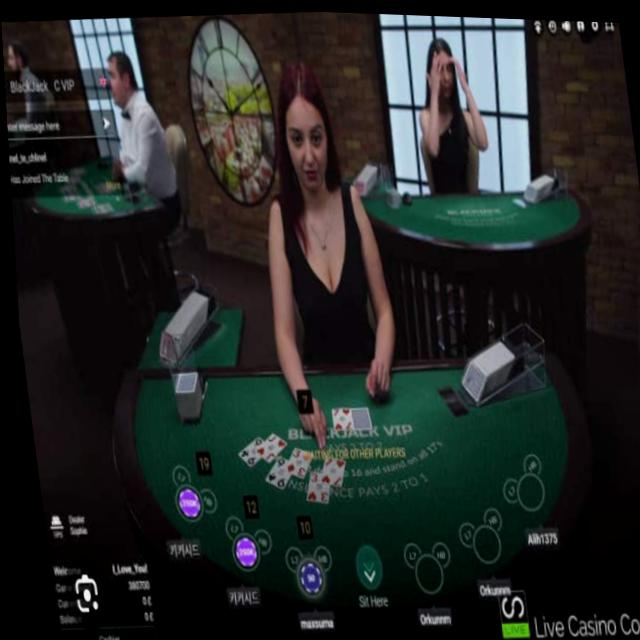Card-3: (280, 444, 306, 477), (300, 467, 323, 502)
Card-7: (315, 455, 339, 485), (326, 404, 346, 428)
Card-9: (259, 452, 284, 488), (231, 433, 257, 465)
Card-J: (248, 430, 282, 462)
